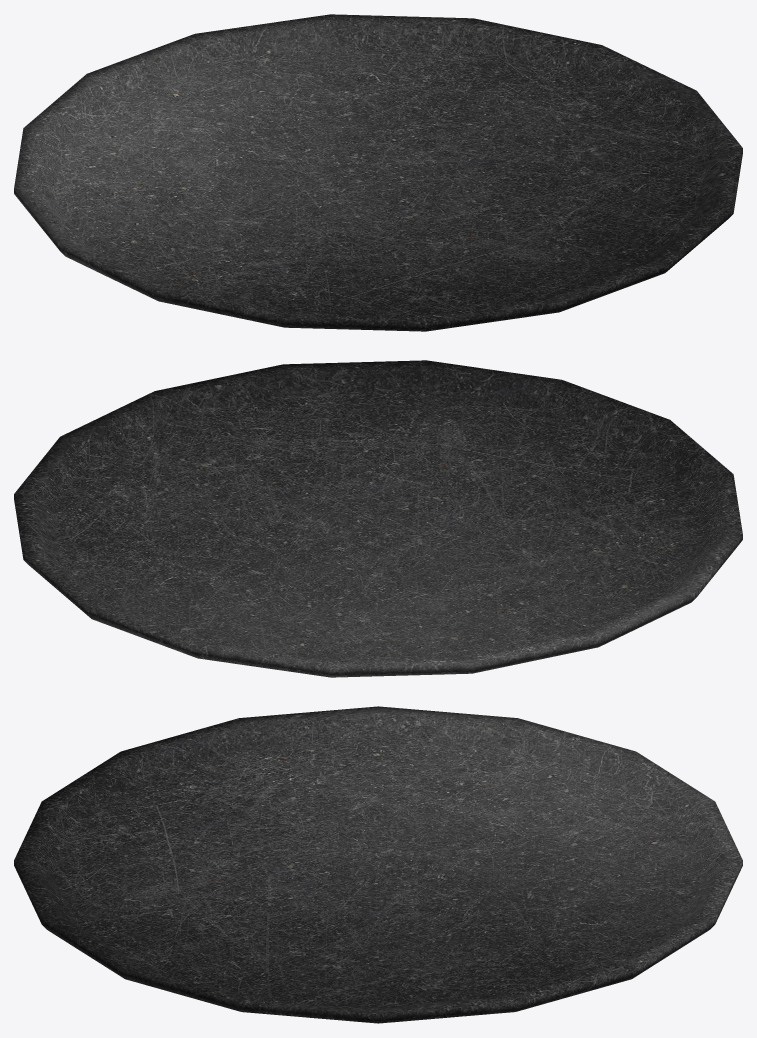
The model's file is Plate.fbx.
The picture shows the model from 3 angles, top to bottom: view 1: azimuth 30°, elevation 25°; view 2: azimuth 150°, elevation 25°; view 3: azimuth 270°, elevation 25°; orthographic projection.
Parts seen in each view (by area): view 1: Plate; view 2: Plate; view 3: Plate.
Boxes of the visible parts, x1,y1,x2,y2 form: Plate: (14,14,742,331); Plate: (14,360,742,677); Plate: (14,706,742,1023).
Bounding box in the file's own units: 80 × 2 × 80.
